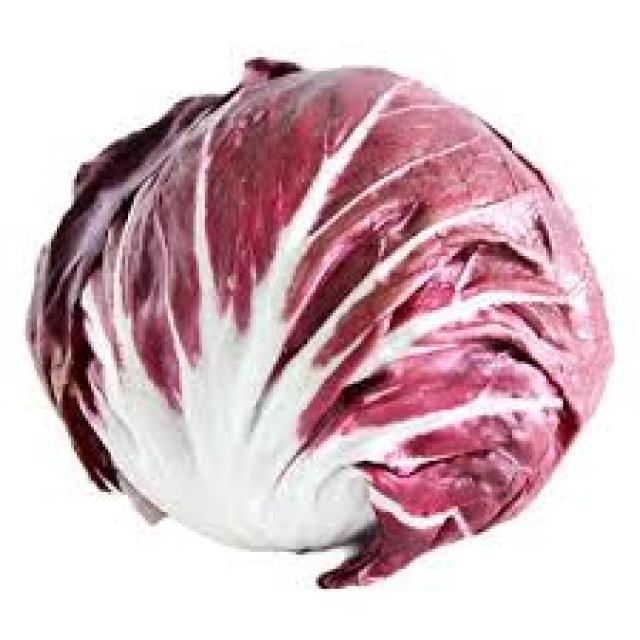organic waste: (20, 54, 614, 586)
